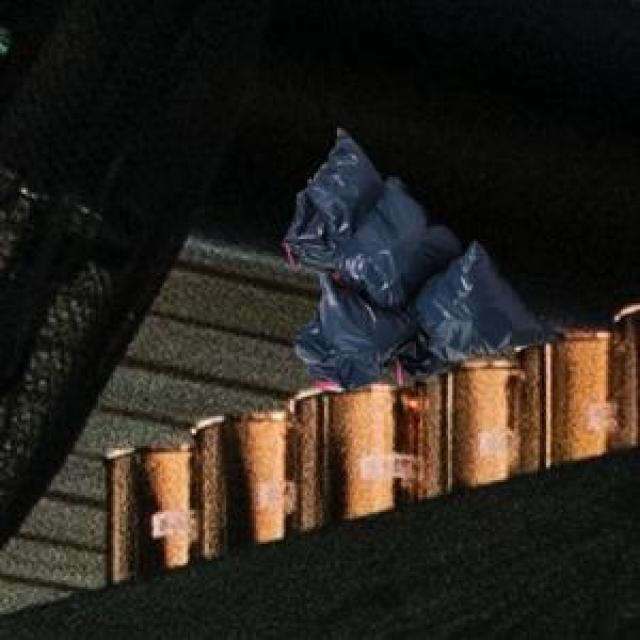miscellaneous trash: (280, 124, 555, 386)
